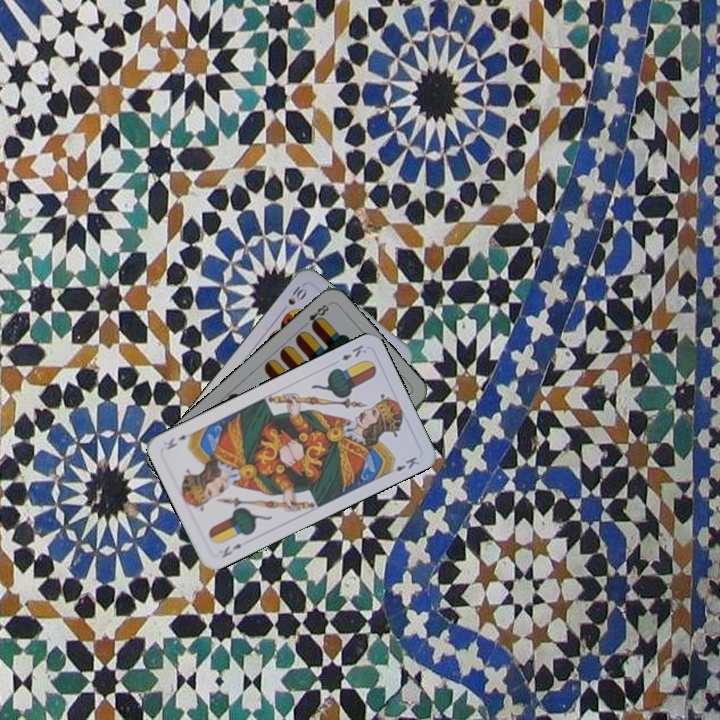E8: (299, 300, 331, 331)
EK: (337, 341, 369, 363), (218, 540, 244, 561)
S10: (277, 279, 310, 315)
